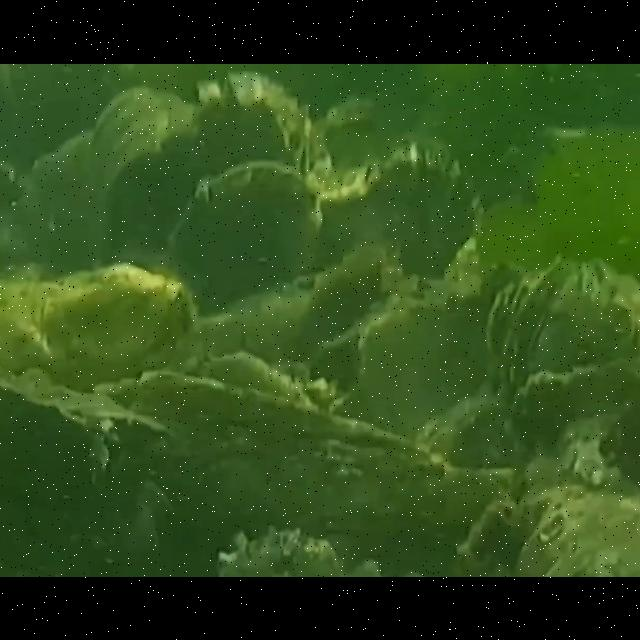Oyster-Closed: (94, 368, 448, 522), (420, 357, 640, 481), (0, 262, 198, 390), (171, 162, 323, 318), (0, 364, 186, 482), (486, 254, 640, 394), (355, 290, 495, 438), (360, 137, 482, 279), (509, 484, 640, 576), (215, 526, 423, 576)
